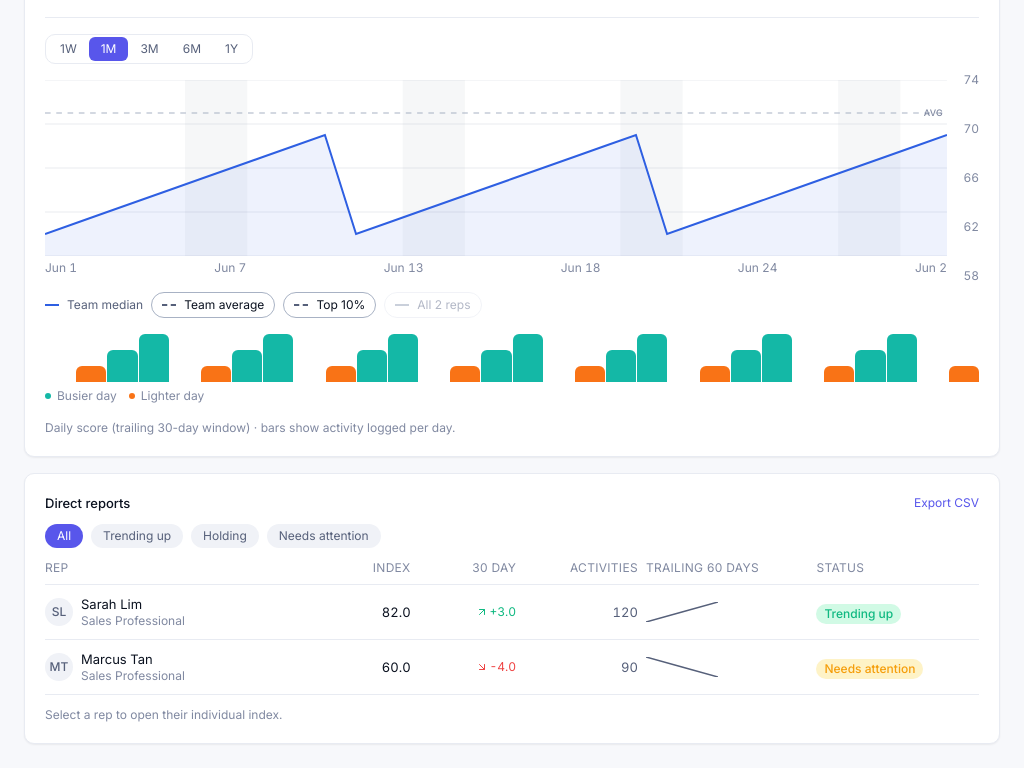
Test: PersistenceIndexReport › Logging Coverage gate (selected-rep drill-down) › shows a caveat line but still renders the score when coverage is between 50% and 75%
(page scrolled)
Click the text "Sarah Lim": (112, 604) x1=81 y1=596 x2=142 y2=612
(page scrolled)
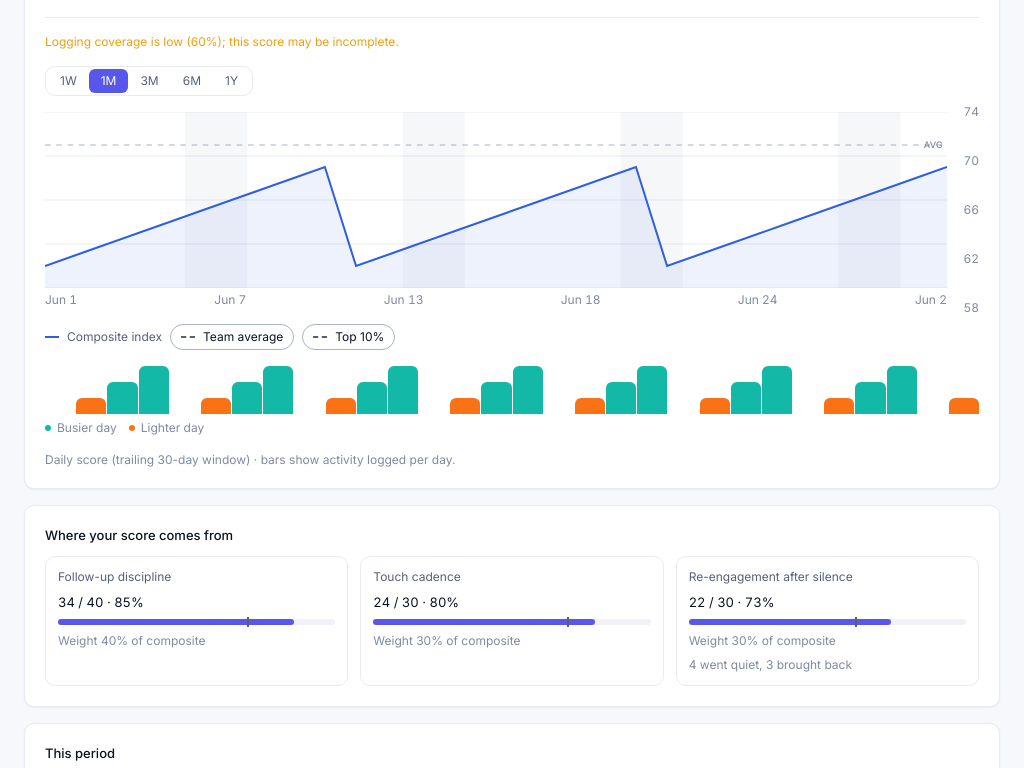
expect the text "Logging coverage is low (60%); this score may be incomplete." is shown: met, box x1=45 y1=34 x2=399 y2=49
expect the text "Where your score comes from" is shown: met, box x1=45 y1=527 x2=233 y2=543
